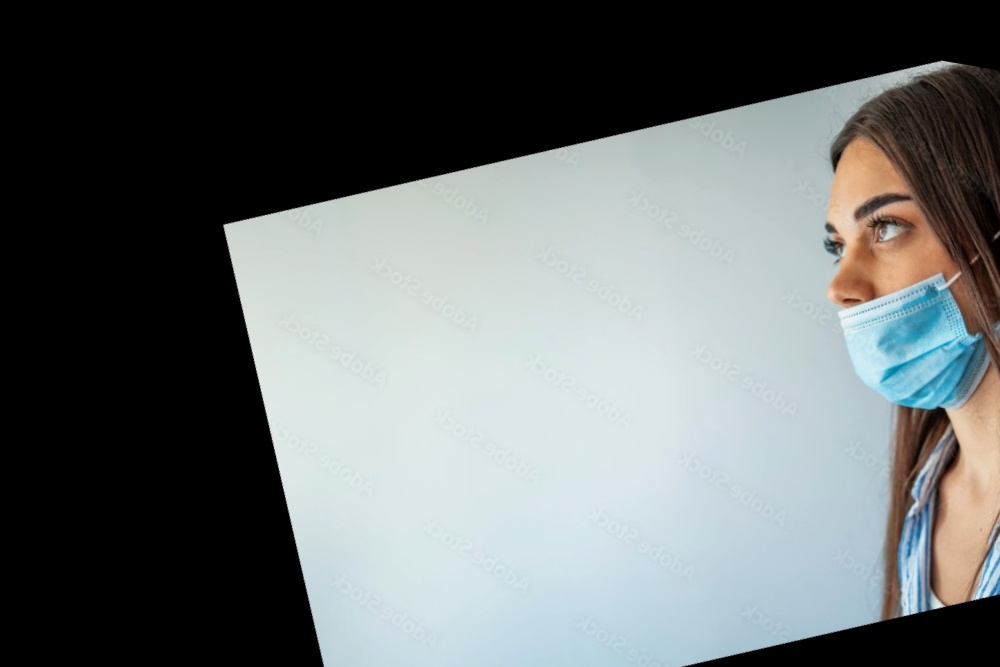mask_weared_incorrect: (818, 77, 1000, 415)
